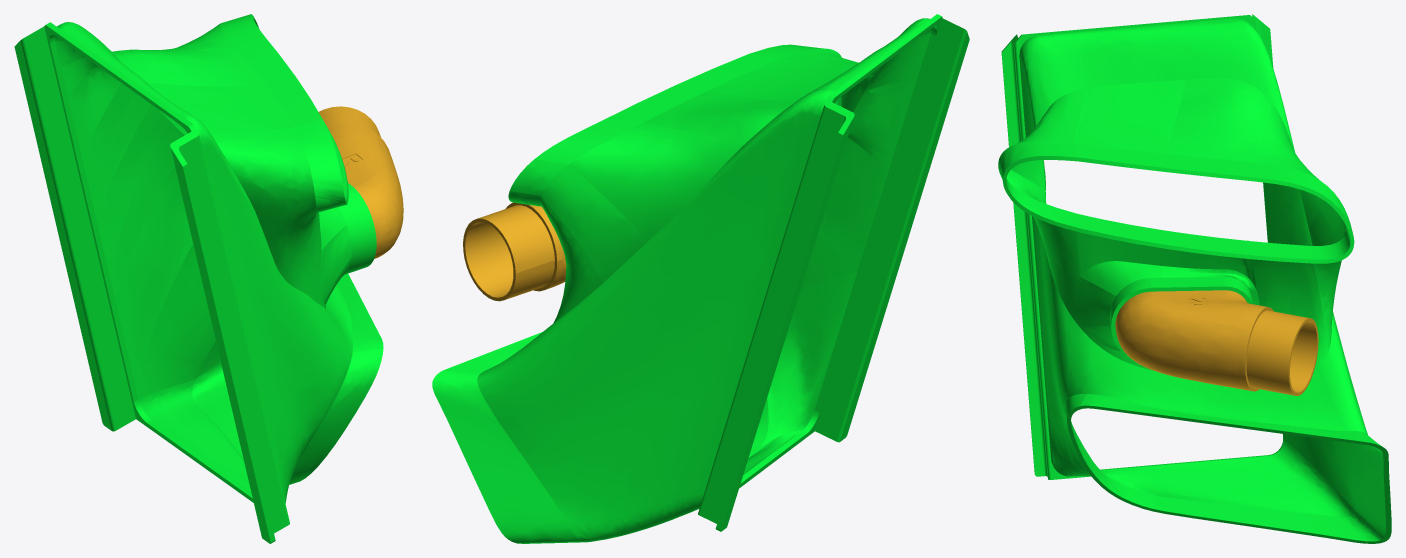
The model's file is right_duct.glb.
The picture shows the model from 3 angles, left to right: view 1: azimuth 30°, elevation 25°; view 2: azimuth 150°, elevation 25°; view 3: azimuth 270°, elevation 25°; orthographic projection. The views are drawn at different scales.
Visible parts, largest first — view 1: duct, middle adapter; view 2: duct, middle adapter; view 3: duct, middle adapter.
Boxes of the visible parts, x1,y1,x2,y2 form: duct: (14,14,383,543); middle adapter: (318,106,403,258); duct: (432,14,969,543); middle adapter: (463,202,566,301); duct: (998,14,1391,543); middle adapter: (1115,290,1318,395).
Size of the model in its own units: 295 by 347 by 293.
